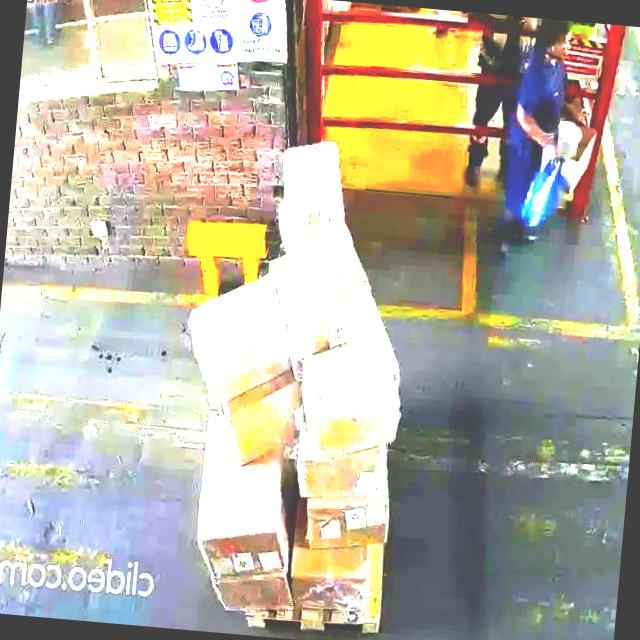Box: (297, 333, 407, 469), (186, 280, 290, 397), (194, 452, 286, 580), (282, 230, 354, 346), (225, 369, 302, 469), (277, 132, 350, 236), (284, 541, 368, 619), (300, 490, 389, 560), (293, 445, 385, 503), (210, 568, 290, 618)
